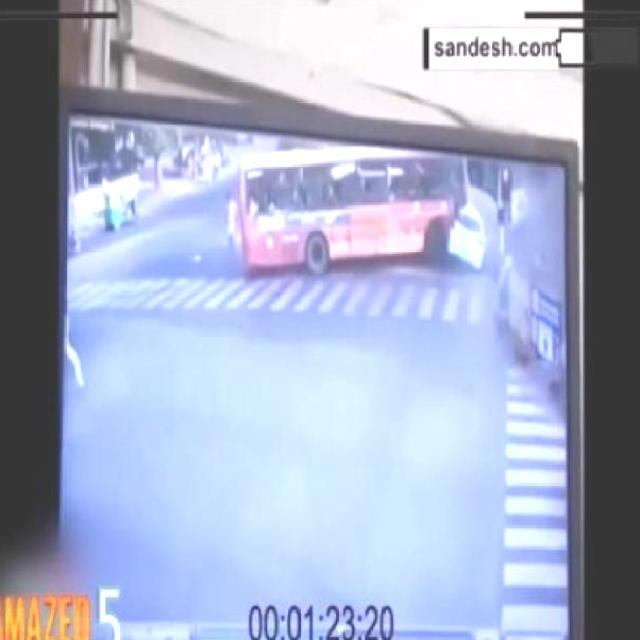accident: (398, 167, 488, 261)
